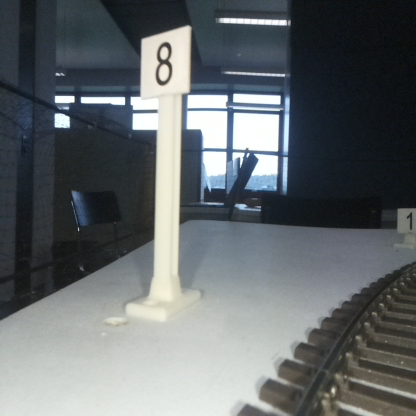white-info-8: (140, 36, 189, 314)
white-stop-1: (397, 207, 416, 245)
